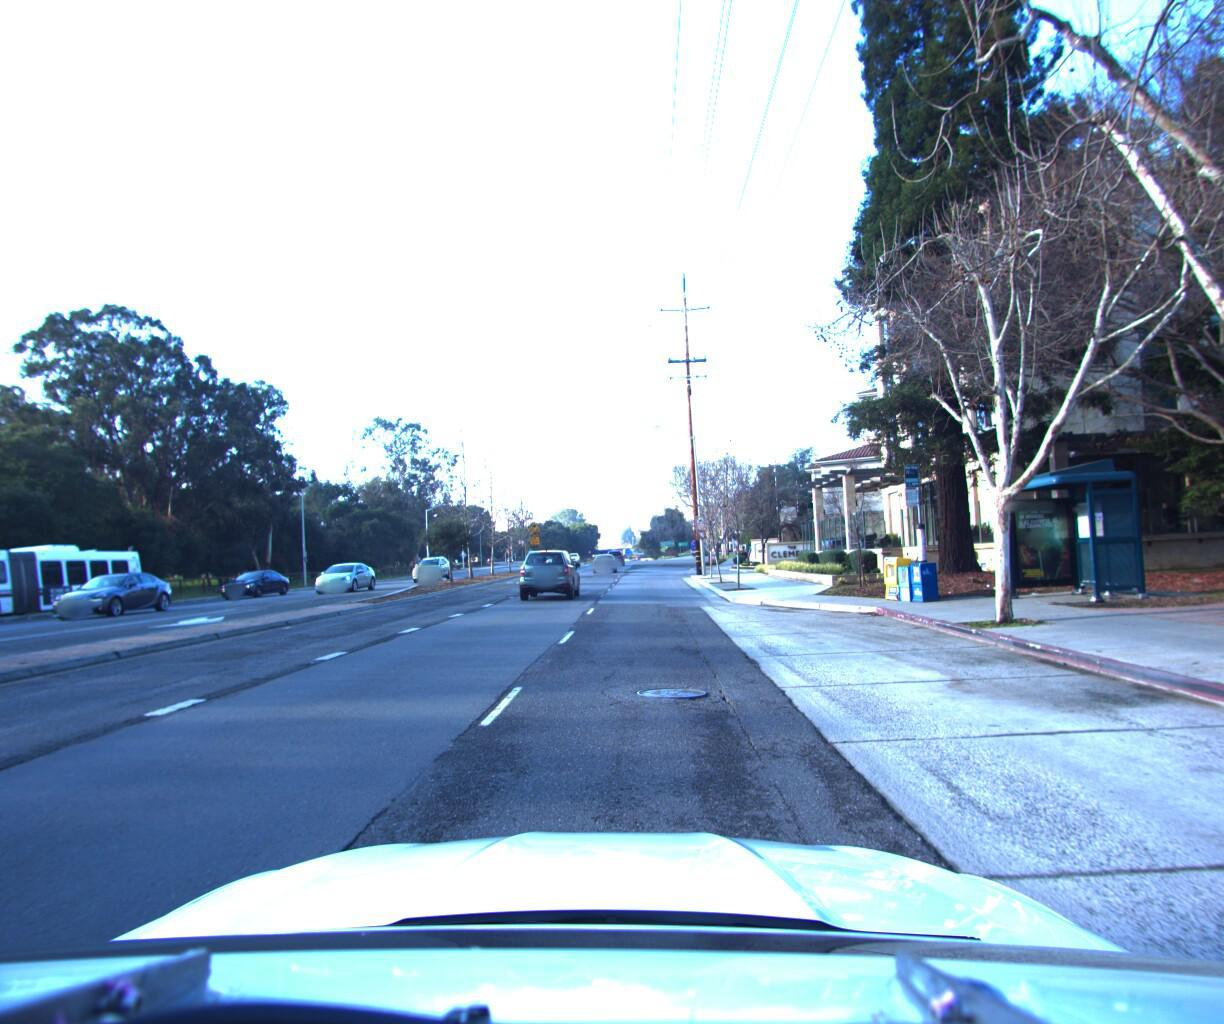bus: (0, 533, 156, 648)
car: (43, 569, 182, 622), (515, 542, 582, 599), (315, 557, 383, 595), (222, 566, 299, 597), (407, 552, 452, 579), (590, 548, 617, 570)
